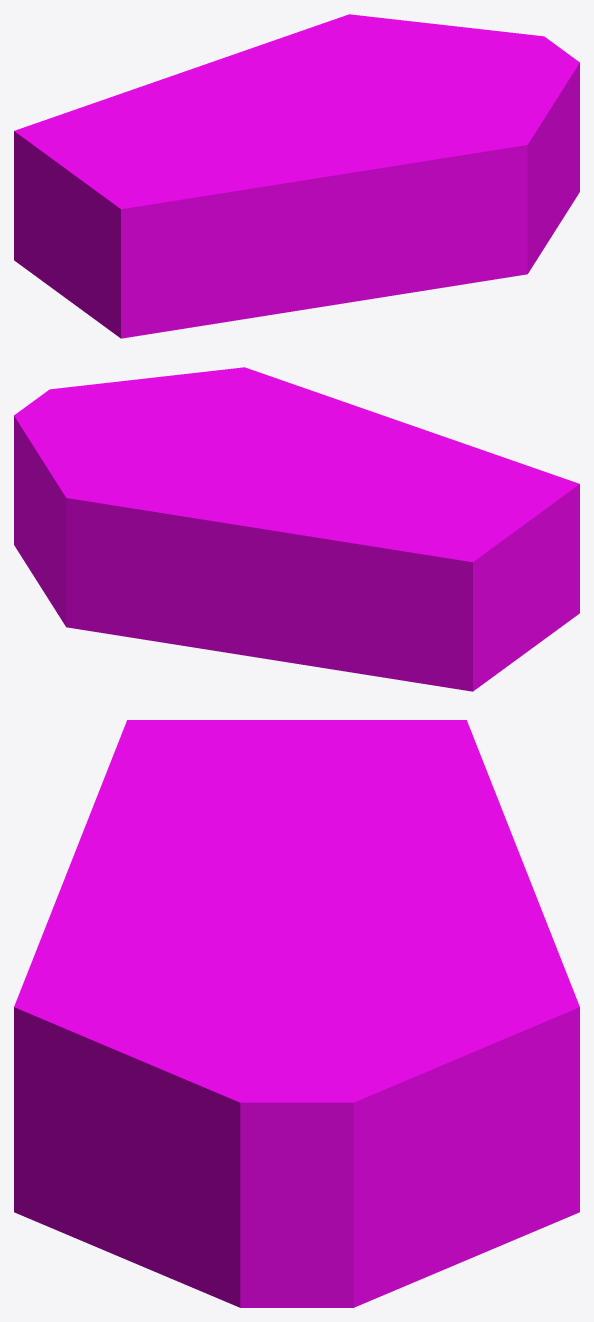
File: coffin.obj
The picture shows the model from 3 angles, top to bottom: view 1: azimuth 30°, elevation 25°; view 2: azimuth 150°, elevation 25°; view 3: azimuth 270°, elevation 25°; orthographic projection. The views are drawn at different scales.
Parts seen in each view (by area): view 1: coffin_back; view 2: coffin_back; view 3: coffin_back.
Boxes of the visible parts, x1=… form: coffin_back: x1=14, y1=14, x2=579, y2=338; coffin_back: x1=14, y1=367, x2=579, y2=691; coffin_back: x1=14, y1=720, x2=579, y2=1307.
Bounding box in the file's own units: 2.56 × 0.64 × 1.6.
